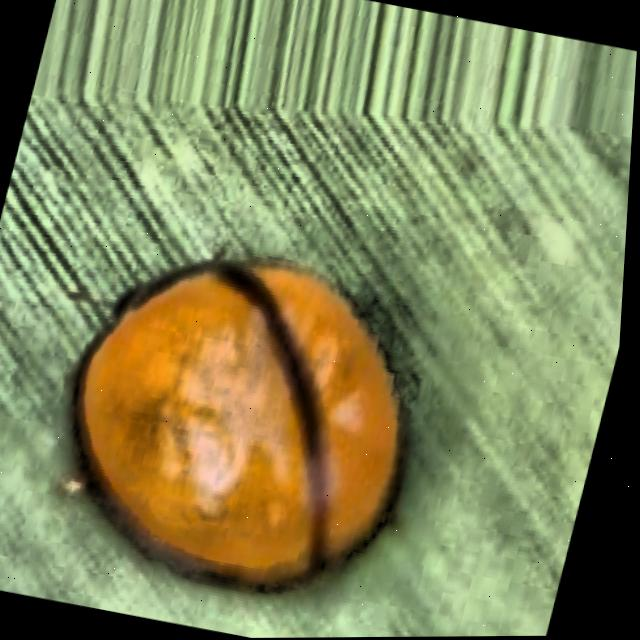Ladybug: (0, 139, 537, 640)
